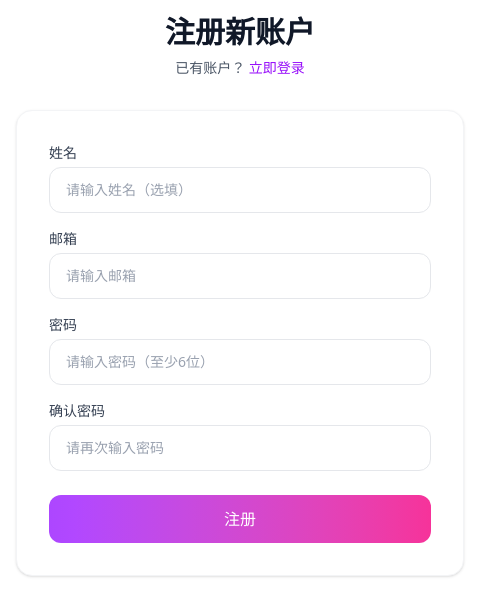
Scenario: Register › should show loading state during registration
Type "test@test.com" into the field labelled "邮箱" at (240, 276), box [49,253,431,299]
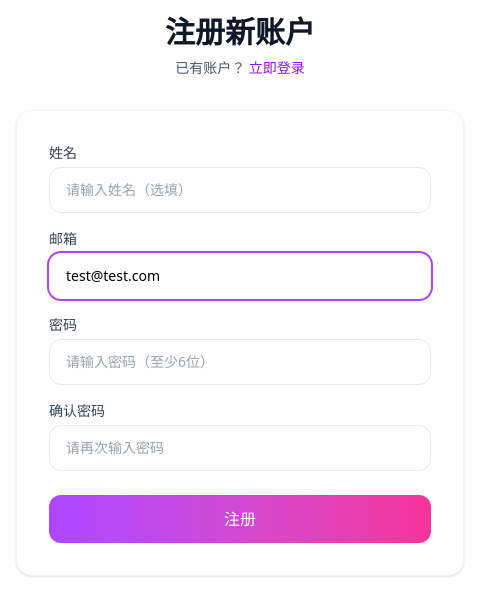
Type "123456" into the password field labelled "密码" at (240, 362), box [49,339,431,385]
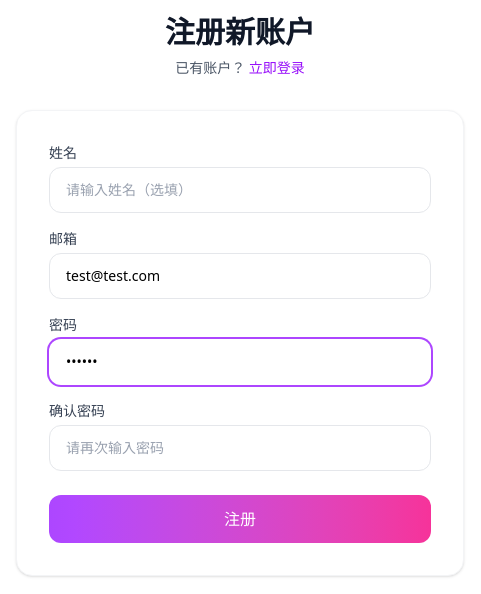
Type "123456" into the password field labelled "确认密码" at (240, 448), box [49,425,431,471]
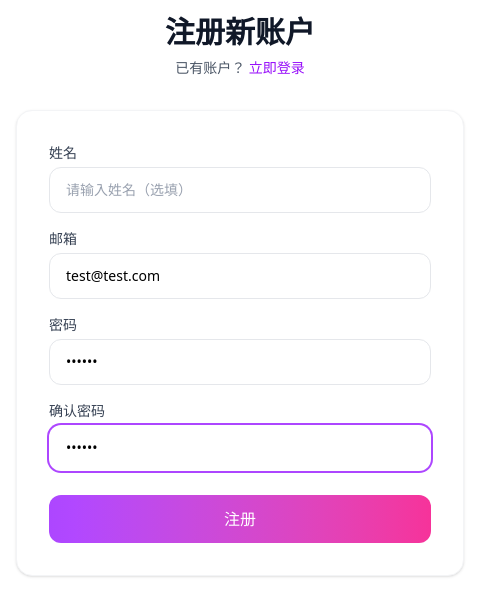
Click the button "注册" at (240, 519), box [49,495,431,543]
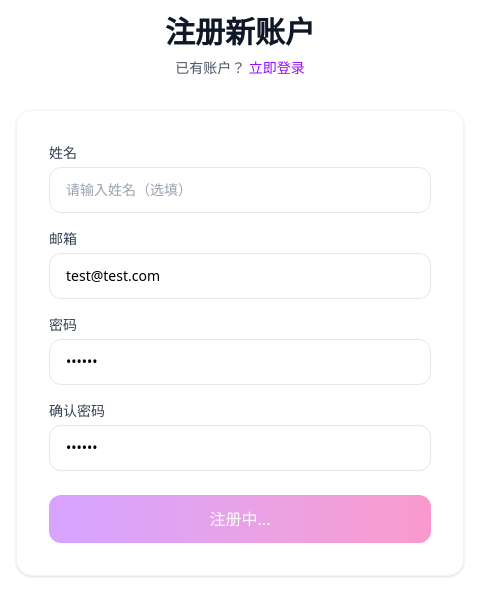
Expected: the button "注册中..." is disabled, [49,495,431,543]
